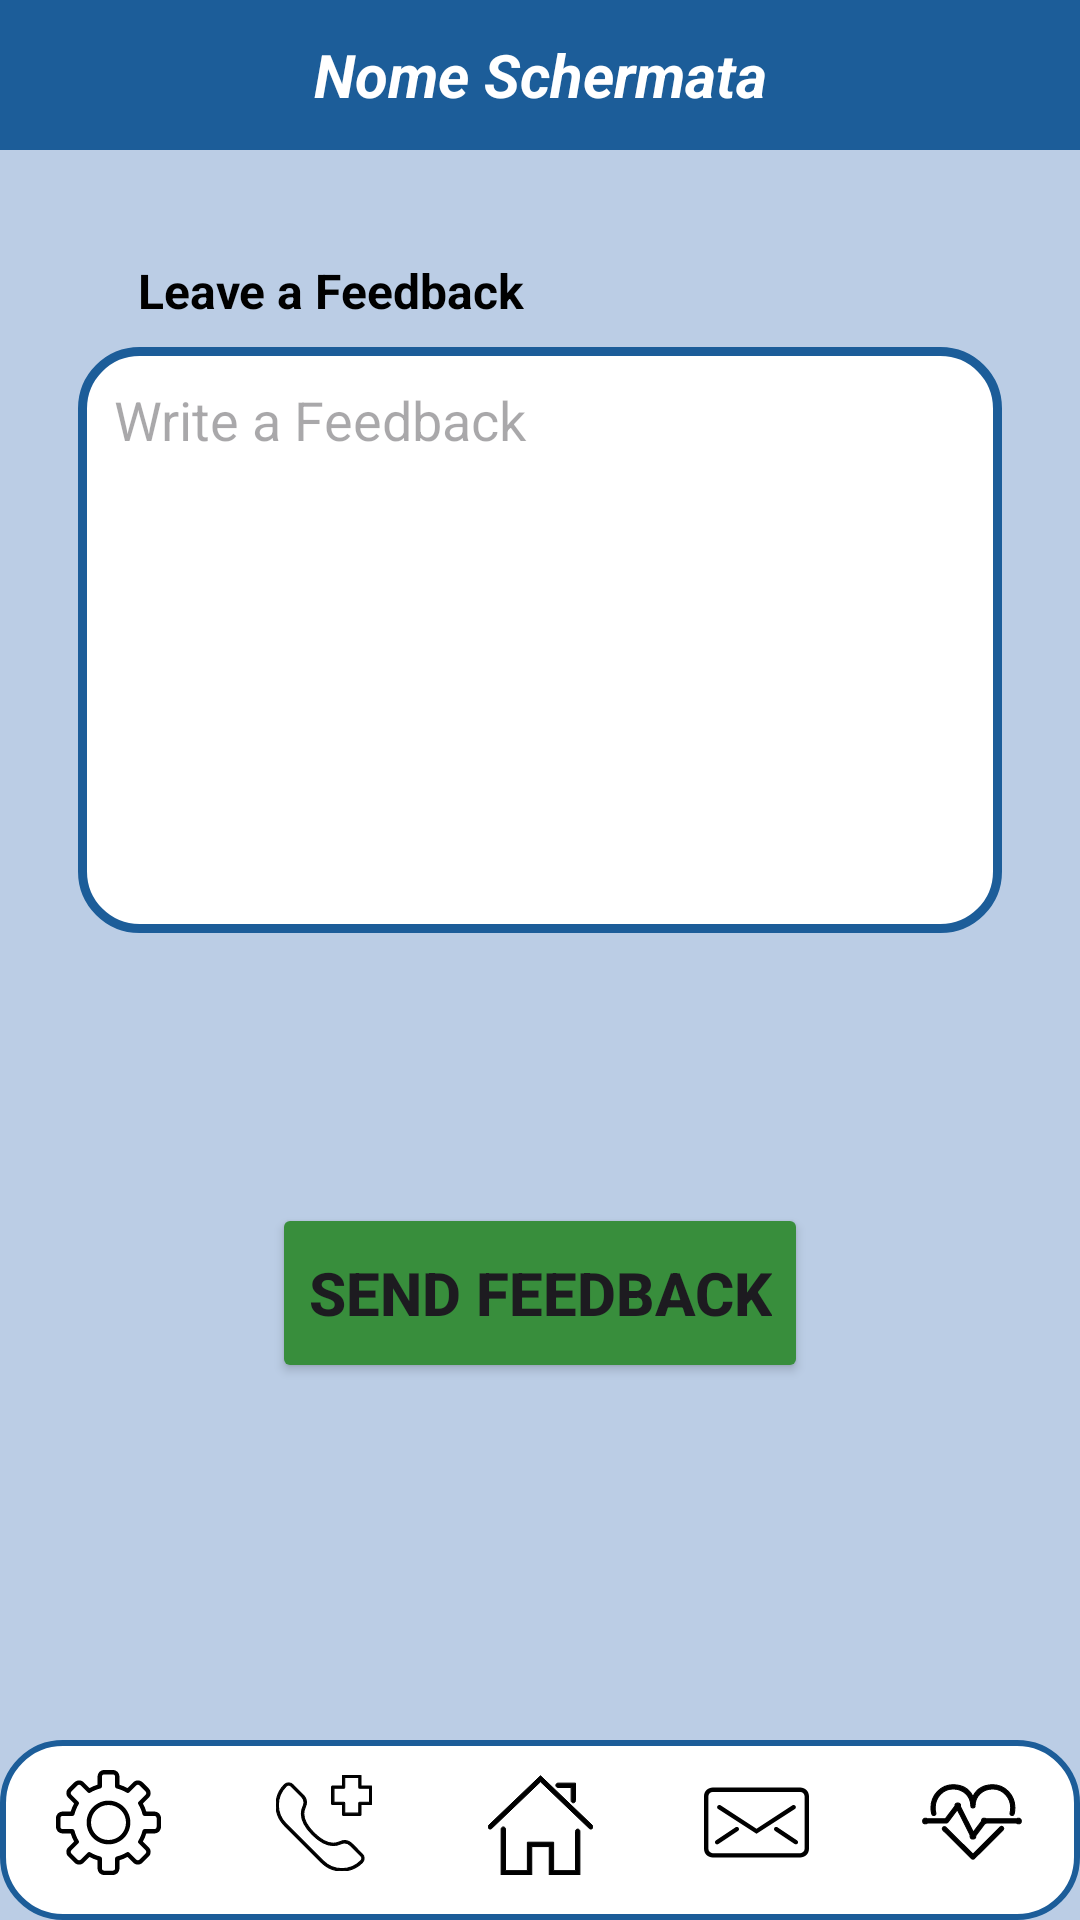

Icon click points for this 1080px x 1920px phone screenshot, format [x,y]:
home: [540,1825]
message: [756,1822]
misurazioni: [972,1822]
setting: [108,1822]
sos: [324,1823]
